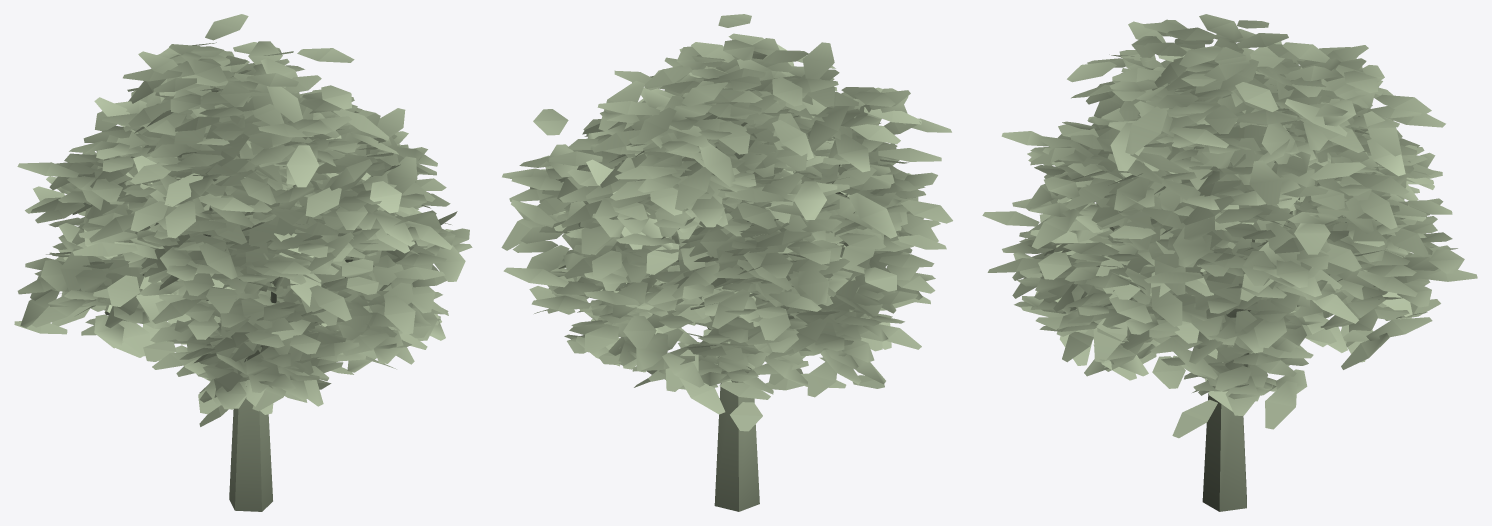
File: tree_cherry_orchard.glb
3 views of the same model, side by side, from view 1: azimuth 30°, elevation 25°; view 2: azimuth 150°, elevation 25°; view 3: azimuth 270°, elevation 25° (orthographic). The views are drawn at different scales.
Visible parts, largest first — view 1: tier2_foliage, tier1_foliage, tier0_foliage, tier0_bark; view 2: tier2_foliage, tier0_foliage, tier1_foliage, tier0_bark; view 3: tier2_foliage, tier0_foliage, tier1_foliage, tier0_bark.
Part boxes in pixels (box(x1,y1,x2,y2)): tier2_foliage: box(14, 14, 472, 426); tier1_foliage: box(52, 47, 448, 369); tier0_foliage: box(72, 41, 448, 361); tier0_bark: box(206, 300, 272, 511); tier2_foliage: box(502, 42, 951, 397); tier0_foliage: box(501, 42, 952, 391); tier1_foliage: box(586, 14, 853, 431); tier0_bark: box(626, 283, 759, 511); tier2_foliage: box(982, 14, 1452, 438); tier0_foliage: box(1030, 41, 1477, 369); tier1_foliage: box(987, 45, 1457, 380); tier0_bark: box(1202, 199, 1299, 511).
Bounding box in the file's own units: 0.9514 × 1 × 0.993.
